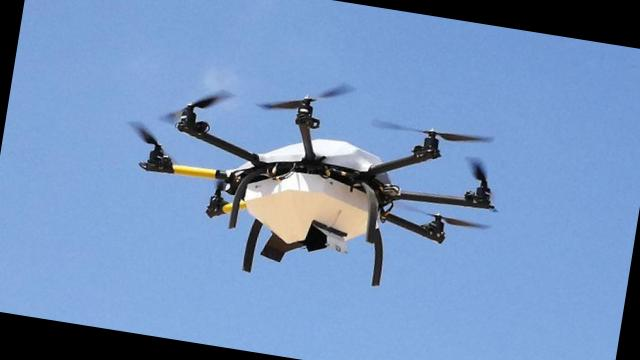drone: (116, 65, 532, 303)
